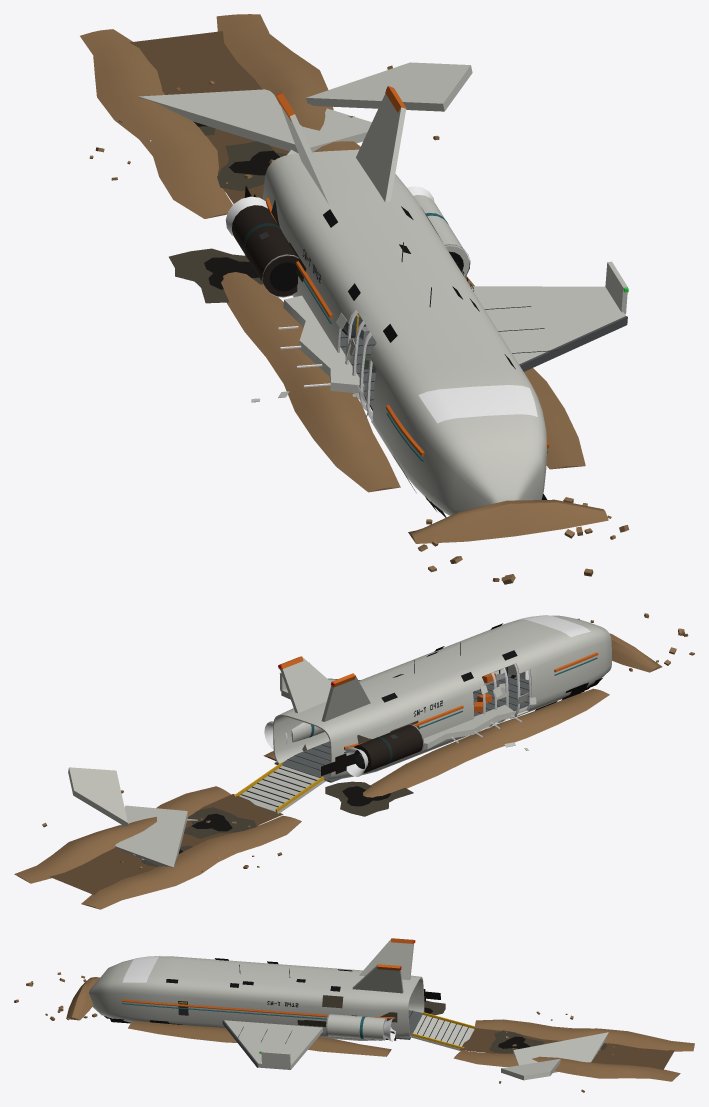
File: shuttle-wreck.glb
The picture shows the model from 3 angles, top to bottom: view 1: azimuth 30°, elevation 25°; view 2: azimuth 150°, elevation 25°; view 3: azimuth 270°, elevation 25°; orthographic projection. The views are drawn at different scales.
Parts seen in each view (by area): view 1: C0_0_lod0, C0_-1_lod0, C-1_-1_lod0; view 2: C0_0_lod0, C0_-1_lod0, C-1_-1_lod0; view 3: C0_-1_lod0, C0_0_lod0.
Boxes of the visible parts, x1,y1,x2,y2 form: C0_0_lod0: (80, 14, 608, 543); C0_-1_lod0: (262, 149, 629, 539); C-1_-1_lod0: (303, 310, 593, 584); C0_0_lod0: (14, 633, 662, 909); C0_-1_lod0: (273, 615, 611, 781); C-1_-1_lod0: (480, 613, 694, 729); C0_-1_lod0: (45, 955, 424, 1069); C0_0_lod0: (66, 938, 694, 1092).
Size of what is drawn, in the model's own units: 35.06 by 12.73 by 81.48.
